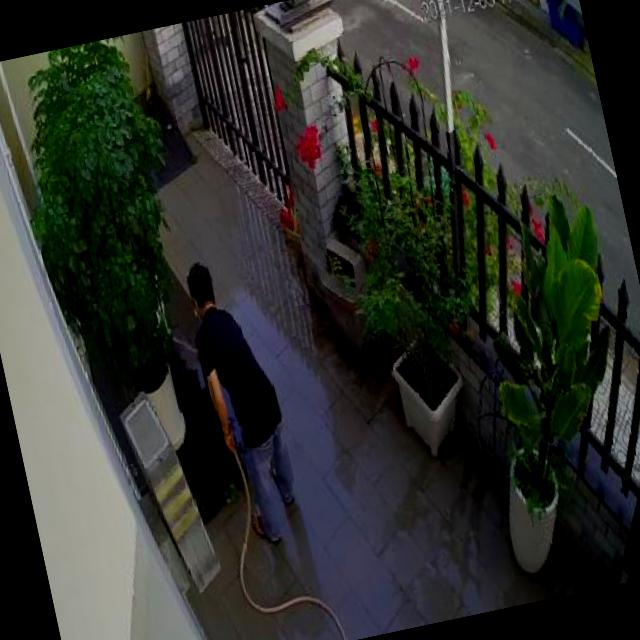Person: (178, 250, 310, 551)
